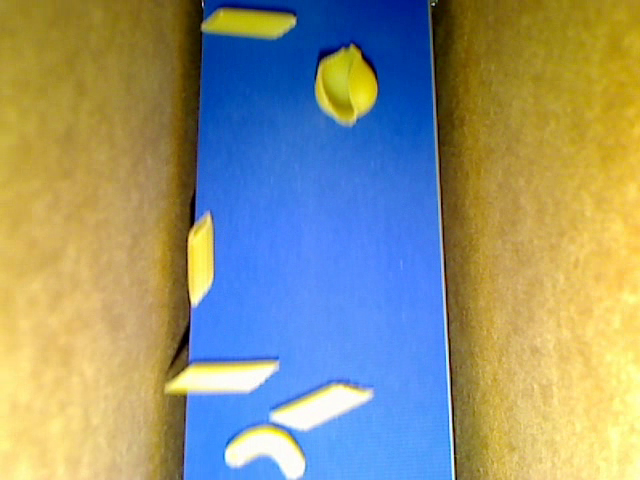penne: (267, 379, 374, 434), (161, 361, 280, 393), (199, 7, 297, 40), (186, 210, 215, 309)
shell: (310, 41, 378, 128)
